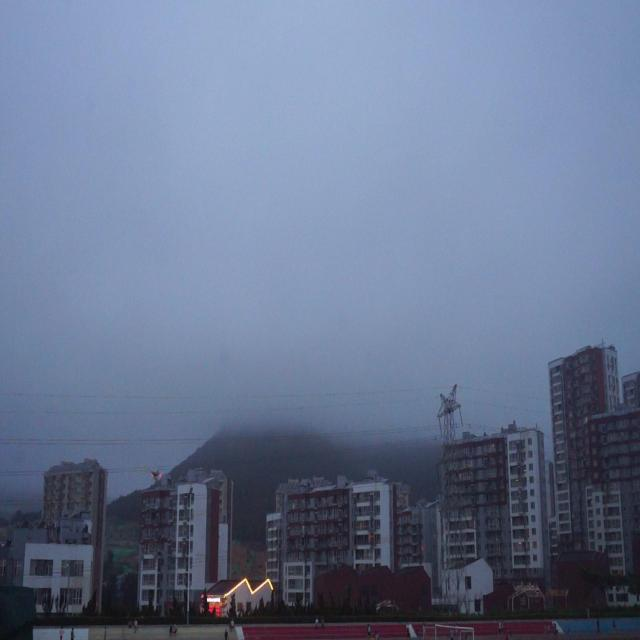drone: (151, 465, 163, 485)
